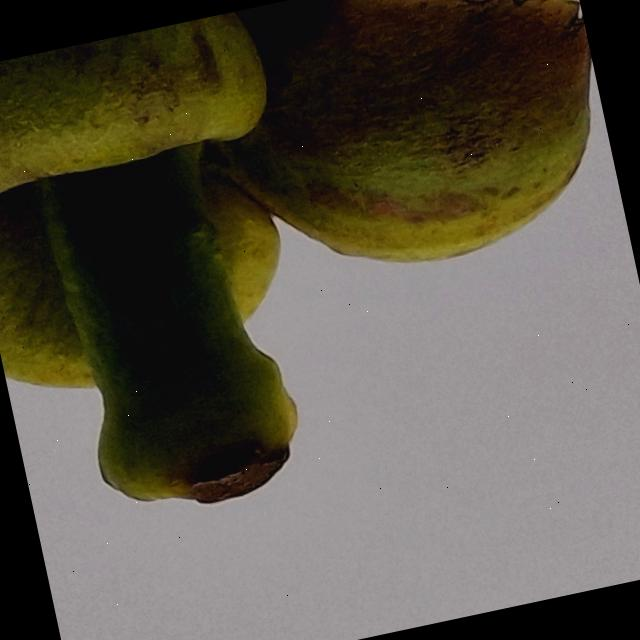mangosteen: (0, 0, 640, 582)
